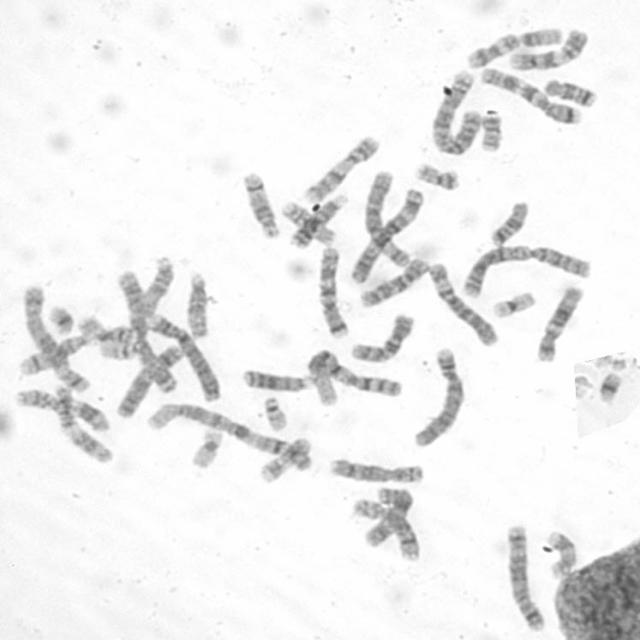A1: (143, 401, 313, 473), (302, 346, 404, 399)
A2: (456, 240, 594, 298), (427, 67, 484, 156)
A3: (112, 267, 181, 395), (348, 185, 425, 284)
B4: (146, 310, 222, 403), (409, 344, 467, 448)
B5: (19, 282, 92, 394), (503, 520, 547, 633)
C10: (355, 255, 431, 309), (347, 310, 416, 365)
C11: (51, 381, 113, 465), (13, 386, 112, 432)
C12: (462, 24, 564, 70), (533, 282, 584, 363)
C6: (425, 258, 499, 348), (362, 168, 411, 268)
C7: (478, 64, 582, 125), (314, 243, 350, 340)
C8: (349, 494, 422, 563), (326, 455, 426, 485)
C9: (300, 132, 380, 203), (506, 26, 591, 72)
D13: (285, 191, 350, 250), (239, 366, 317, 394)
D14: (13, 329, 96, 376), (238, 168, 281, 240)
D15: (131, 254, 175, 321), (182, 268, 211, 341)
E16: (278, 198, 338, 247), (73, 314, 140, 346)
E17: (256, 434, 314, 485), (544, 526, 578, 579)
E18: (486, 197, 530, 247), (540, 75, 599, 108)
F19: (187, 426, 226, 470), (489, 288, 537, 320)
F20: (411, 160, 463, 192), (478, 110, 504, 154)
G21: (594, 370, 624, 404), (46, 302, 76, 336)
G22: (260, 393, 290, 433), (96, 337, 139, 361)
X: (113, 341, 185, 419), (361, 484, 416, 550)
